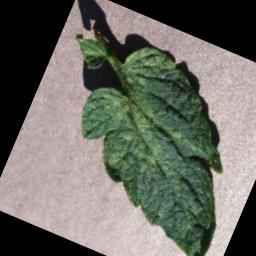Leaf_Mold: (42, 31, 256, 256)
